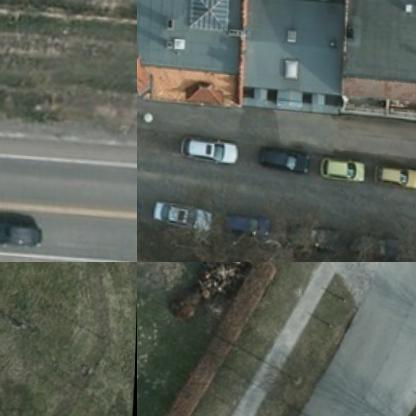car: (155, 197, 214, 230), (348, 220, 404, 254), (184, 131, 240, 164), (258, 138, 314, 170), (225, 207, 278, 239), (320, 146, 370, 179), (0, 217, 48, 247), (291, 219, 341, 247), (376, 155, 415, 185)
